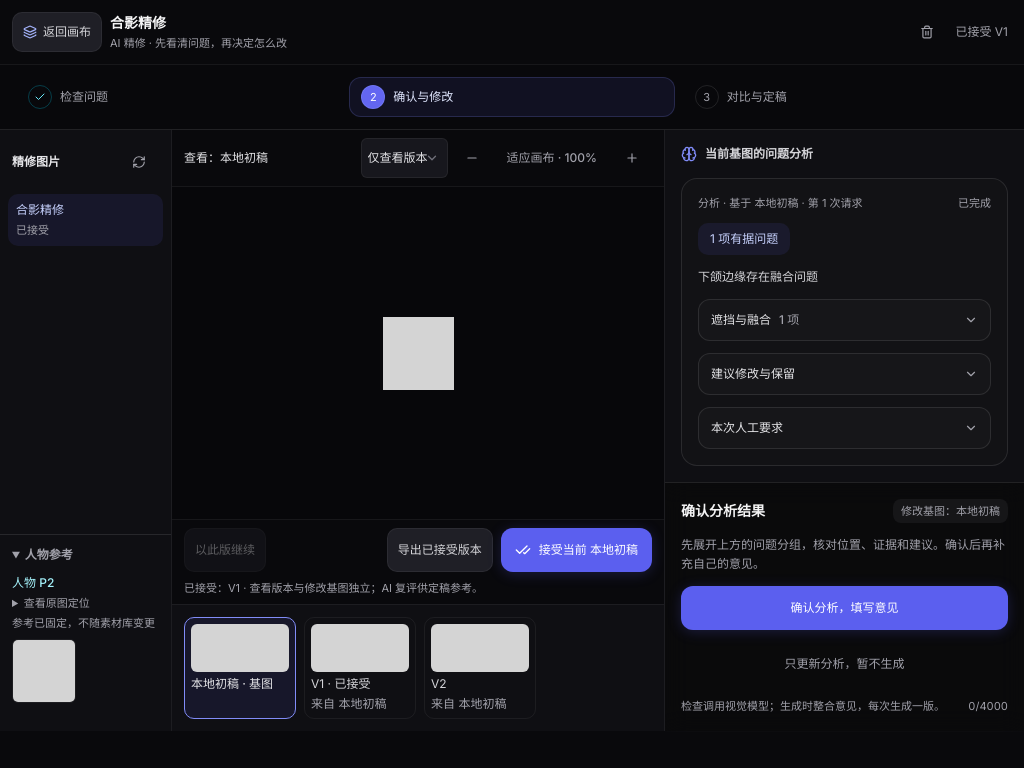
Test: server-backed conversation workbench › requires analysis of the selected base and never borrows a different version diagnosis
Check: the button "确认分析，填写意见" is shown, box [681,586,1008,630]
Click the button with aria-label "查看V2".
click(480, 668)  # box [424,617,536,719]
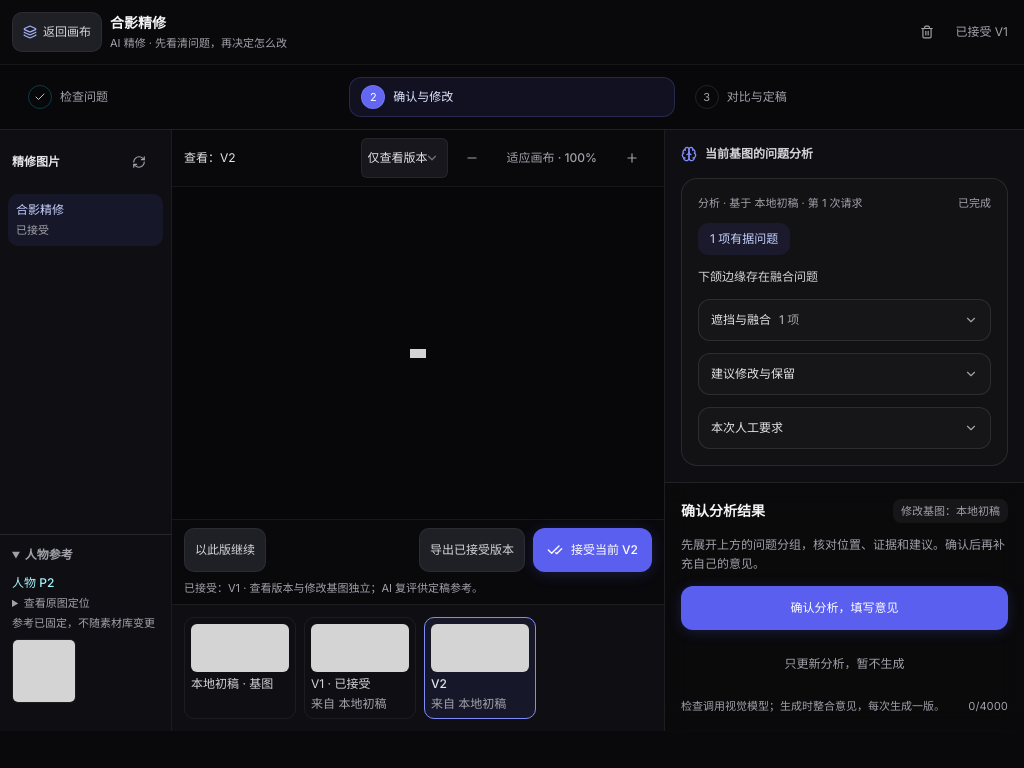
Click the button "以此版继续".
click(225, 550)  # box [184,528,266,572]
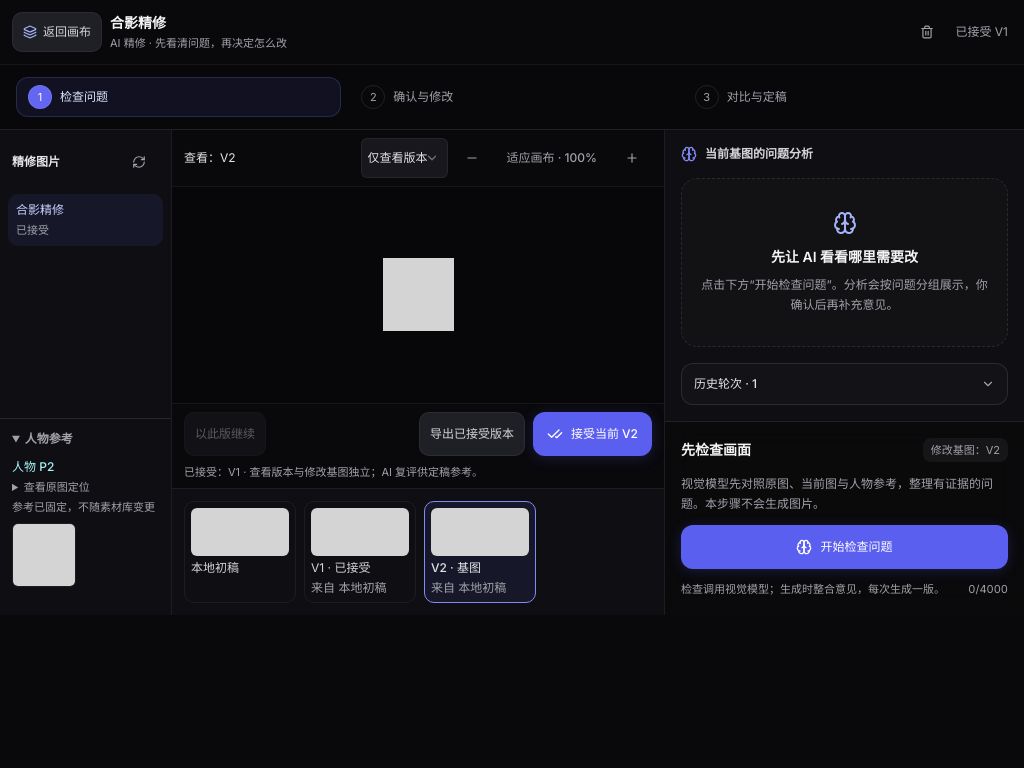
Check: the button "开始检查问题" is enabled, box [681,525,1008,569]
